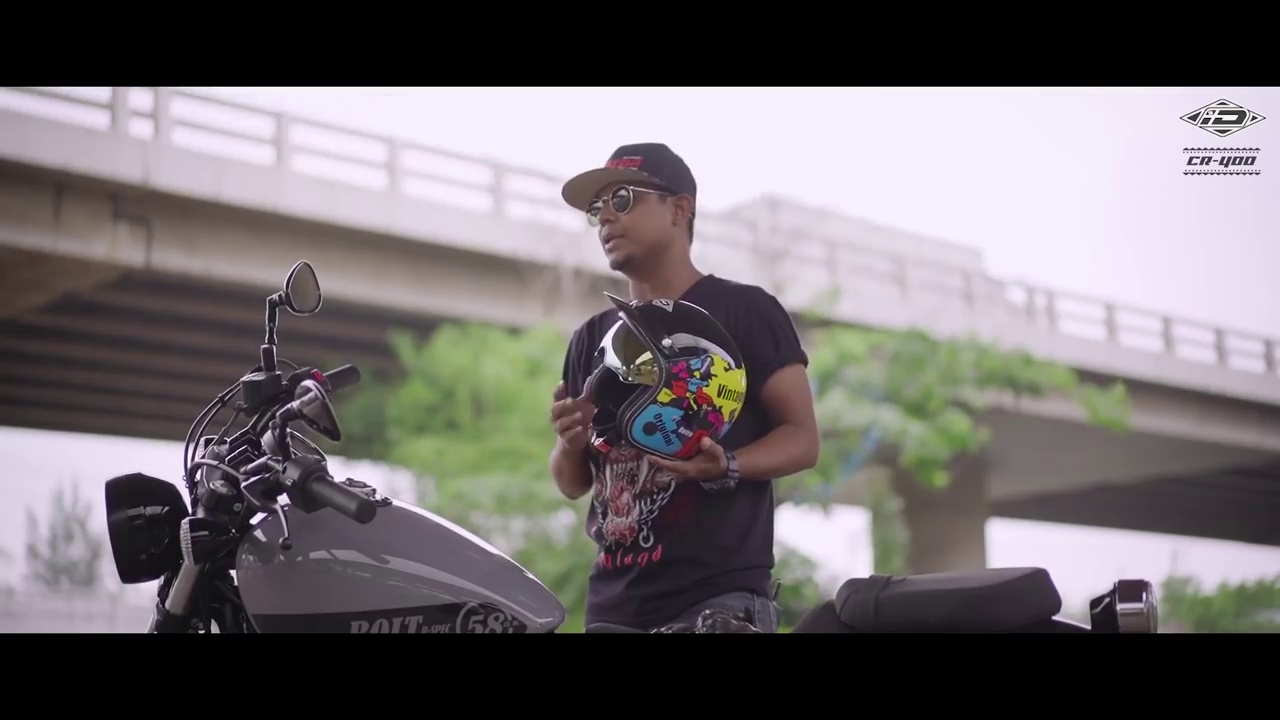helmet: (577, 284, 748, 457)
